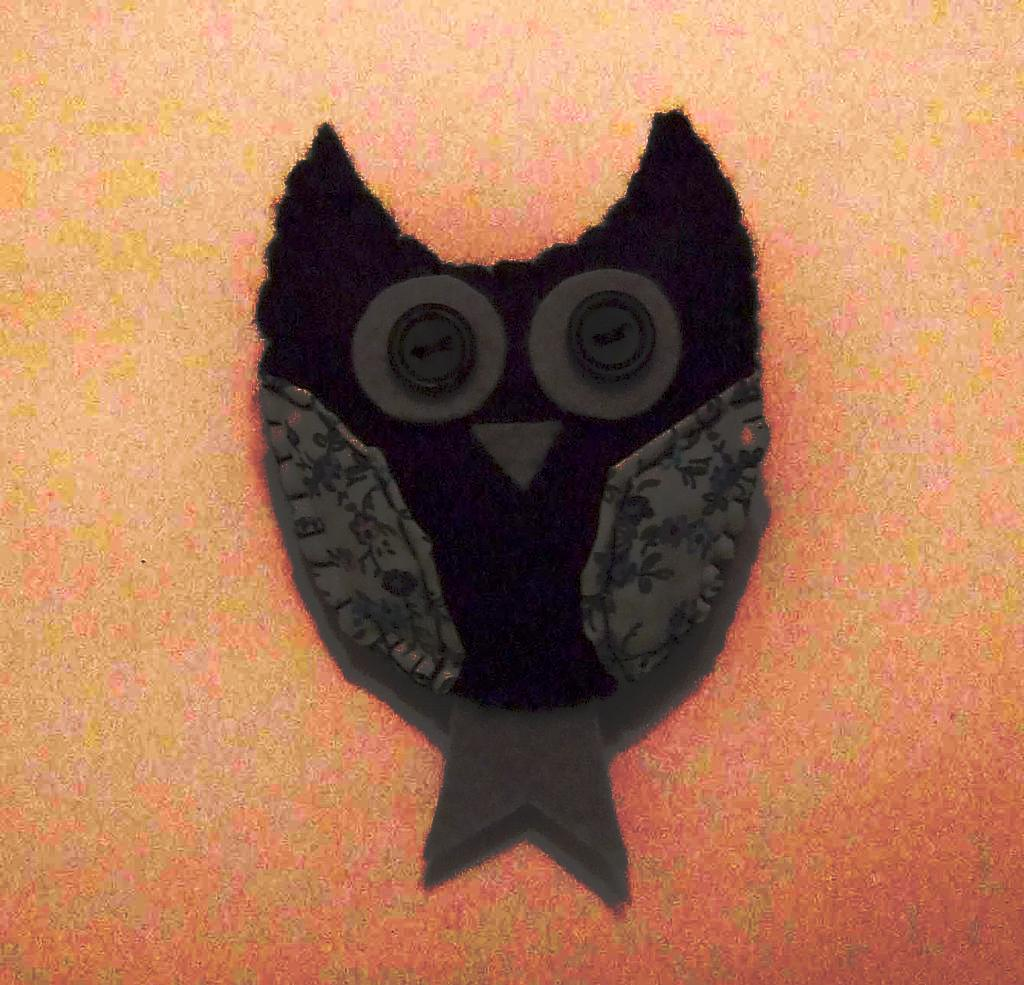Owl: (254, 106, 770, 874)
